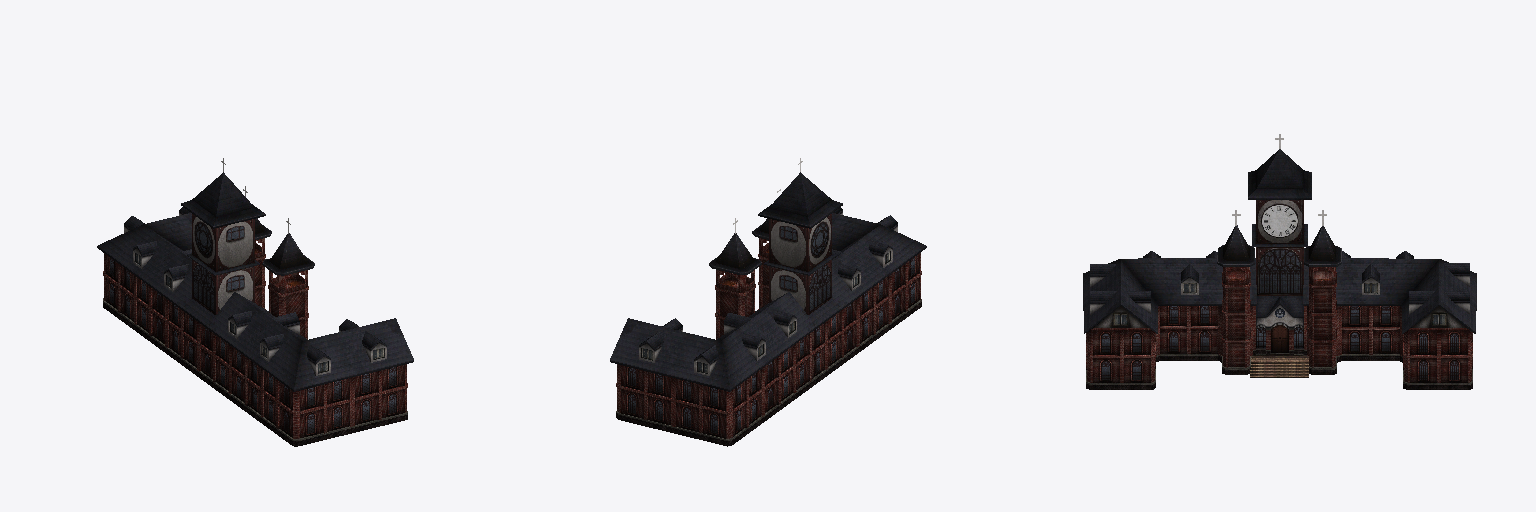
3 views of the same model, side by side, from view 1: azimuth 30°, elevation 25°; view 2: azimuth 150°, elevation 25°; view 3: azimuth 270°, elevation 25° (orthographic).
Parts seen in each view (by area): view 1: Texture.png; view 2: Texture.png; view 3: Texture.png.
Part boxes in pixels (bbox=[...]): Texture.png: bbox=[97, 158, 413, 446]; Texture.png: bbox=[610, 158, 926, 446]; Texture.png: bbox=[1083, 134, 1476, 389].
Size of the model in its own units: 27.21 by 45.53 by 76.61.
Materials: 1 (1 with a texture image).